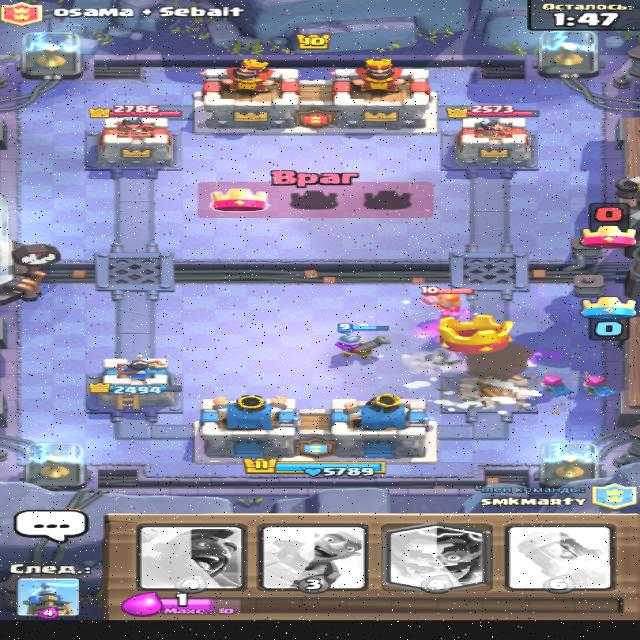Enemy-Valkyrie: (417, 286, 474, 318)
Player-Archer: (569, 370, 617, 397), (527, 370, 573, 398)
Player-Musketeer: (330, 322, 392, 360)
